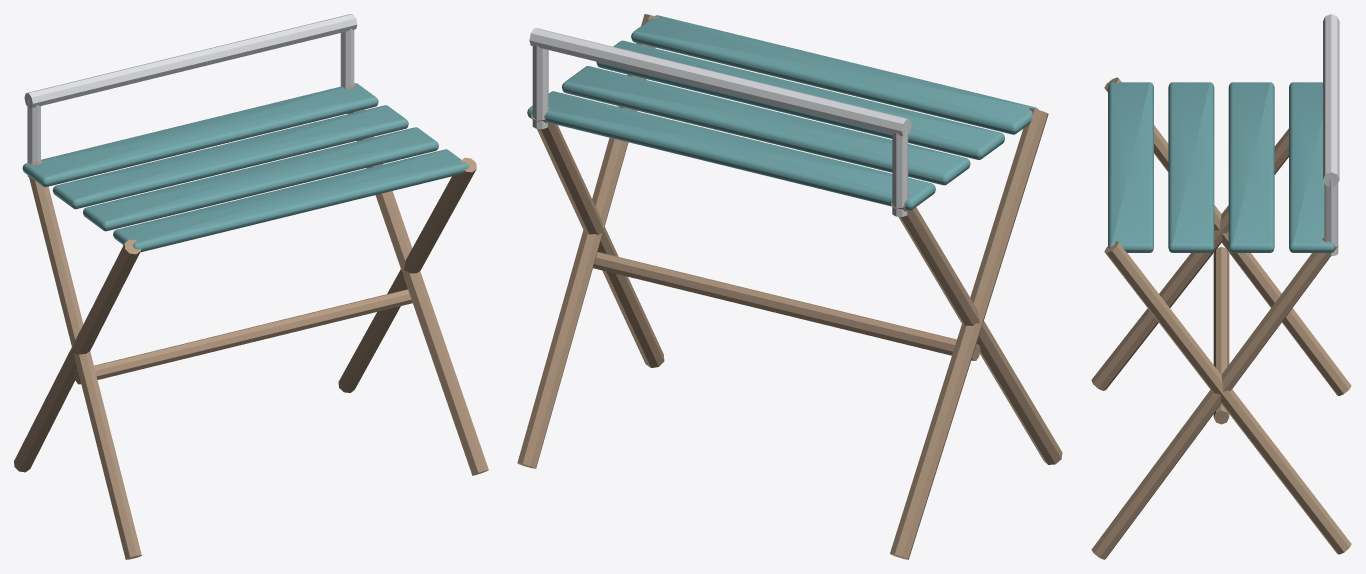
Rendered from hotel-and-resort-operations-luggage-rack-folding-0864f56e__25748.glb.
3 views of the same model, side by side, from view 1: azimuth 30°, elevation 25°; view 2: azimuth 150°, elevation 25°; view 3: azimuth 270°, elevation 25° (orthographic). The views are drawn at different scales.
Parts seen in each view (by area): view 1: luggage-rack-folding; view 2: luggage-rack-folding; view 3: luggage-rack-folding.
Part boxes in pixels (x1,y1,x2,y2): luggage-rack-folding: (14, 14, 488, 559); luggage-rack-folding: (517, 14, 1062, 559); luggage-rack-folding: (1091, 14, 1351, 559).
Size of the model in its own units: 0.6479 by 0.651 by 0.4029.
